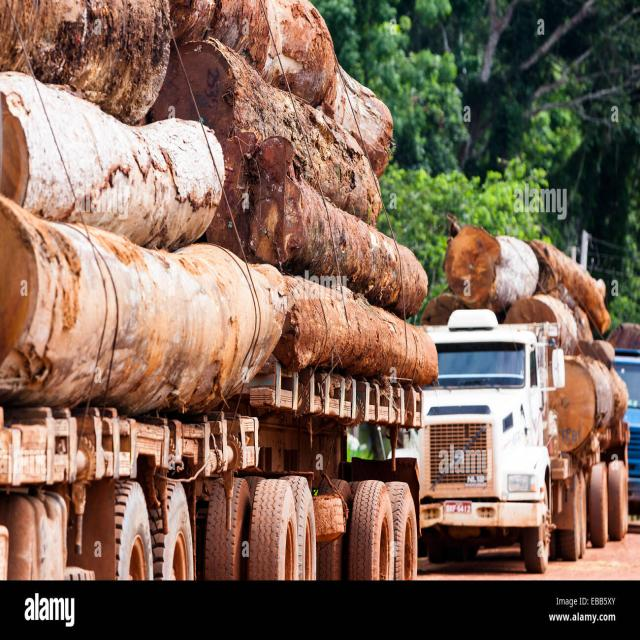Truck: (414, 229, 624, 555)
